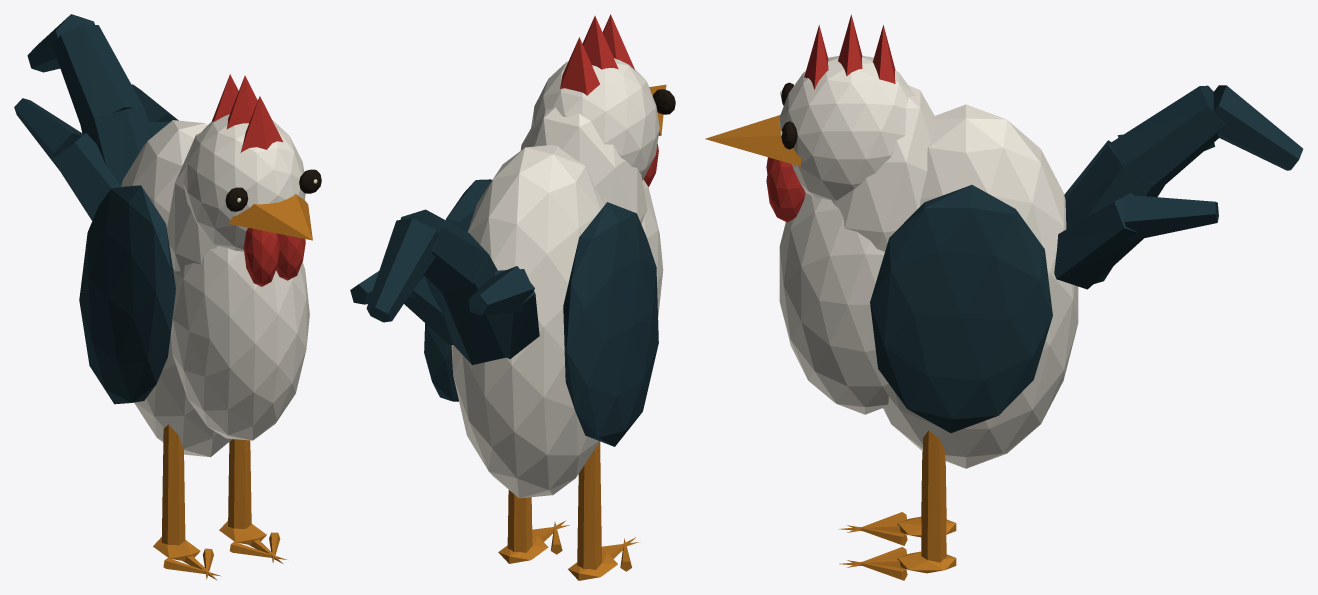
Rendered from low-poly-rooster.glb.
3 renders of one model, left to right at view 1: azimuth 30°, elevation 25°; view 2: azimuth 150°, elevation 25°; view 3: azimuth 270°, elevation 25°, orthographic. The views are drawn at different scales.
Parts seen in each view (by area): view 1: rooster-breast-mesh, rooster-wing-left-mesh, rooster-head-mesh, rooster-body-mesh, rooster-tail-segment-2-mesh, rooster-tail-segment-1-mesh, rooster-tail-left-segment-1-mesh, rooster-neck-mesh, rooster-leg-left-shaft-mesh, rooster-beak-mesh, rooster-leg-right-shaft-mesh, rooster-tail-left-segment-2-mesh (+11 smaller); view 2: rooster-body-mesh, rooster-wing-left-mesh, rooster-head-mesh, rooster-neck-mesh, rooster-tail-segment-3-mesh, rooster-tail-segment-1-mesh, rooster-tail-segment-2-mesh, rooster-wing-right-mesh, rooster-leg-left-shaft-mesh, rooster-tail-left-segment-2-mesh, rooster-tail-left-segment-1-mesh, rooster-leg-right-shaft-mesh (+9 smaller); view 3: rooster-wing-right-mesh, rooster-body-mesh, rooster-breast-mesh, rooster-head-mesh, rooster-neck-mesh, rooster-tail-segment-2-mesh, rooster-tail-right-segment-1-mesh, rooster-tail-segment-3-mesh, rooster-tail-segment-1-mesh, rooster-tail-right-segment-2-mesh, rooster-leg-right-shaft-mesh, rooster-beak-mesh (+5 smaller).
Boxes of the visible parts, x1,y1,x2,y2 form: rooster-breast-mesh: [171, 246, 309, 440]; rooster-wing-left-mesh: [79, 185, 175, 404]; rooster-head-mesh: [183, 114, 305, 251]; rooster-body-mesh: [121, 120, 232, 457]; rooster-tail-segment-2-mesh: [52, 24, 144, 123]; rooster-tail-segment-1-mesh: [80, 106, 153, 186]; rooster-tail-left-segment-1-mesh: [52, 133, 121, 220]; rooster-neck-mesh: [167, 133, 218, 271]; rooster-leg-left-shaft-mesh: [161, 424, 185, 545]; rooster-beak-mesh: [228, 194, 312, 240]; rooster-leg-right-shaft-mesh: [228, 439, 251, 528]; rooster-tail-left-segment-2-mesh: [14, 98, 83, 170]; rooster-body-mesh: [451, 145, 604, 498]; rooster-wing-left-mesh: [563, 202, 658, 446]; rooster-head-mesh: [531, 58, 659, 180]; rooster-neck-mesh: [520, 107, 647, 224]; rooster-tail-segment-3-mesh: [366, 218, 438, 322]; rooster-tail-segment-1-mesh: [424, 238, 506, 364]; rooster-tail-segment-2-mesh: [400, 209, 487, 292]; rooster-wing-right-mesh: [424, 179, 491, 401]; rooster-leg-left-shaft-mesh: [577, 441, 601, 569]; rooster-tail-left-segment-2-mesh: [468, 266, 534, 315]; rooster-tail-left-segment-1-mesh: [486, 269, 539, 358]; rooster-leg-right-shaft-mesh: [507, 490, 532, 552]; rooster-wing-right-mesh: [870, 185, 1052, 433]; rooster-body-mesh: [883, 104, 1078, 468]; rooster-breast-mesh: [779, 193, 890, 414]; rooster-head-mesh: [779, 55, 914, 200]; rooster-neck-mesh: [832, 85, 934, 251]; rooster-tail-segment-2-mesh: [1110, 85, 1225, 187]; rooster-tail-right-segment-1-mesh: [1054, 193, 1143, 289]; rooster-tail-segment-3-mesh: [1213, 85, 1303, 170]; rooster-tail-segment-1-mesh: [1065, 144, 1164, 283]; rooster-tail-right-segment-2-mesh: [1124, 194, 1218, 241]; rooster-leg-right-shaft-mesh: [921, 430, 946, 562]; rooster-beak-mesh: [705, 115, 800, 166].
Size of the model in its own units: 0.3646 by 1 by 1.01.
